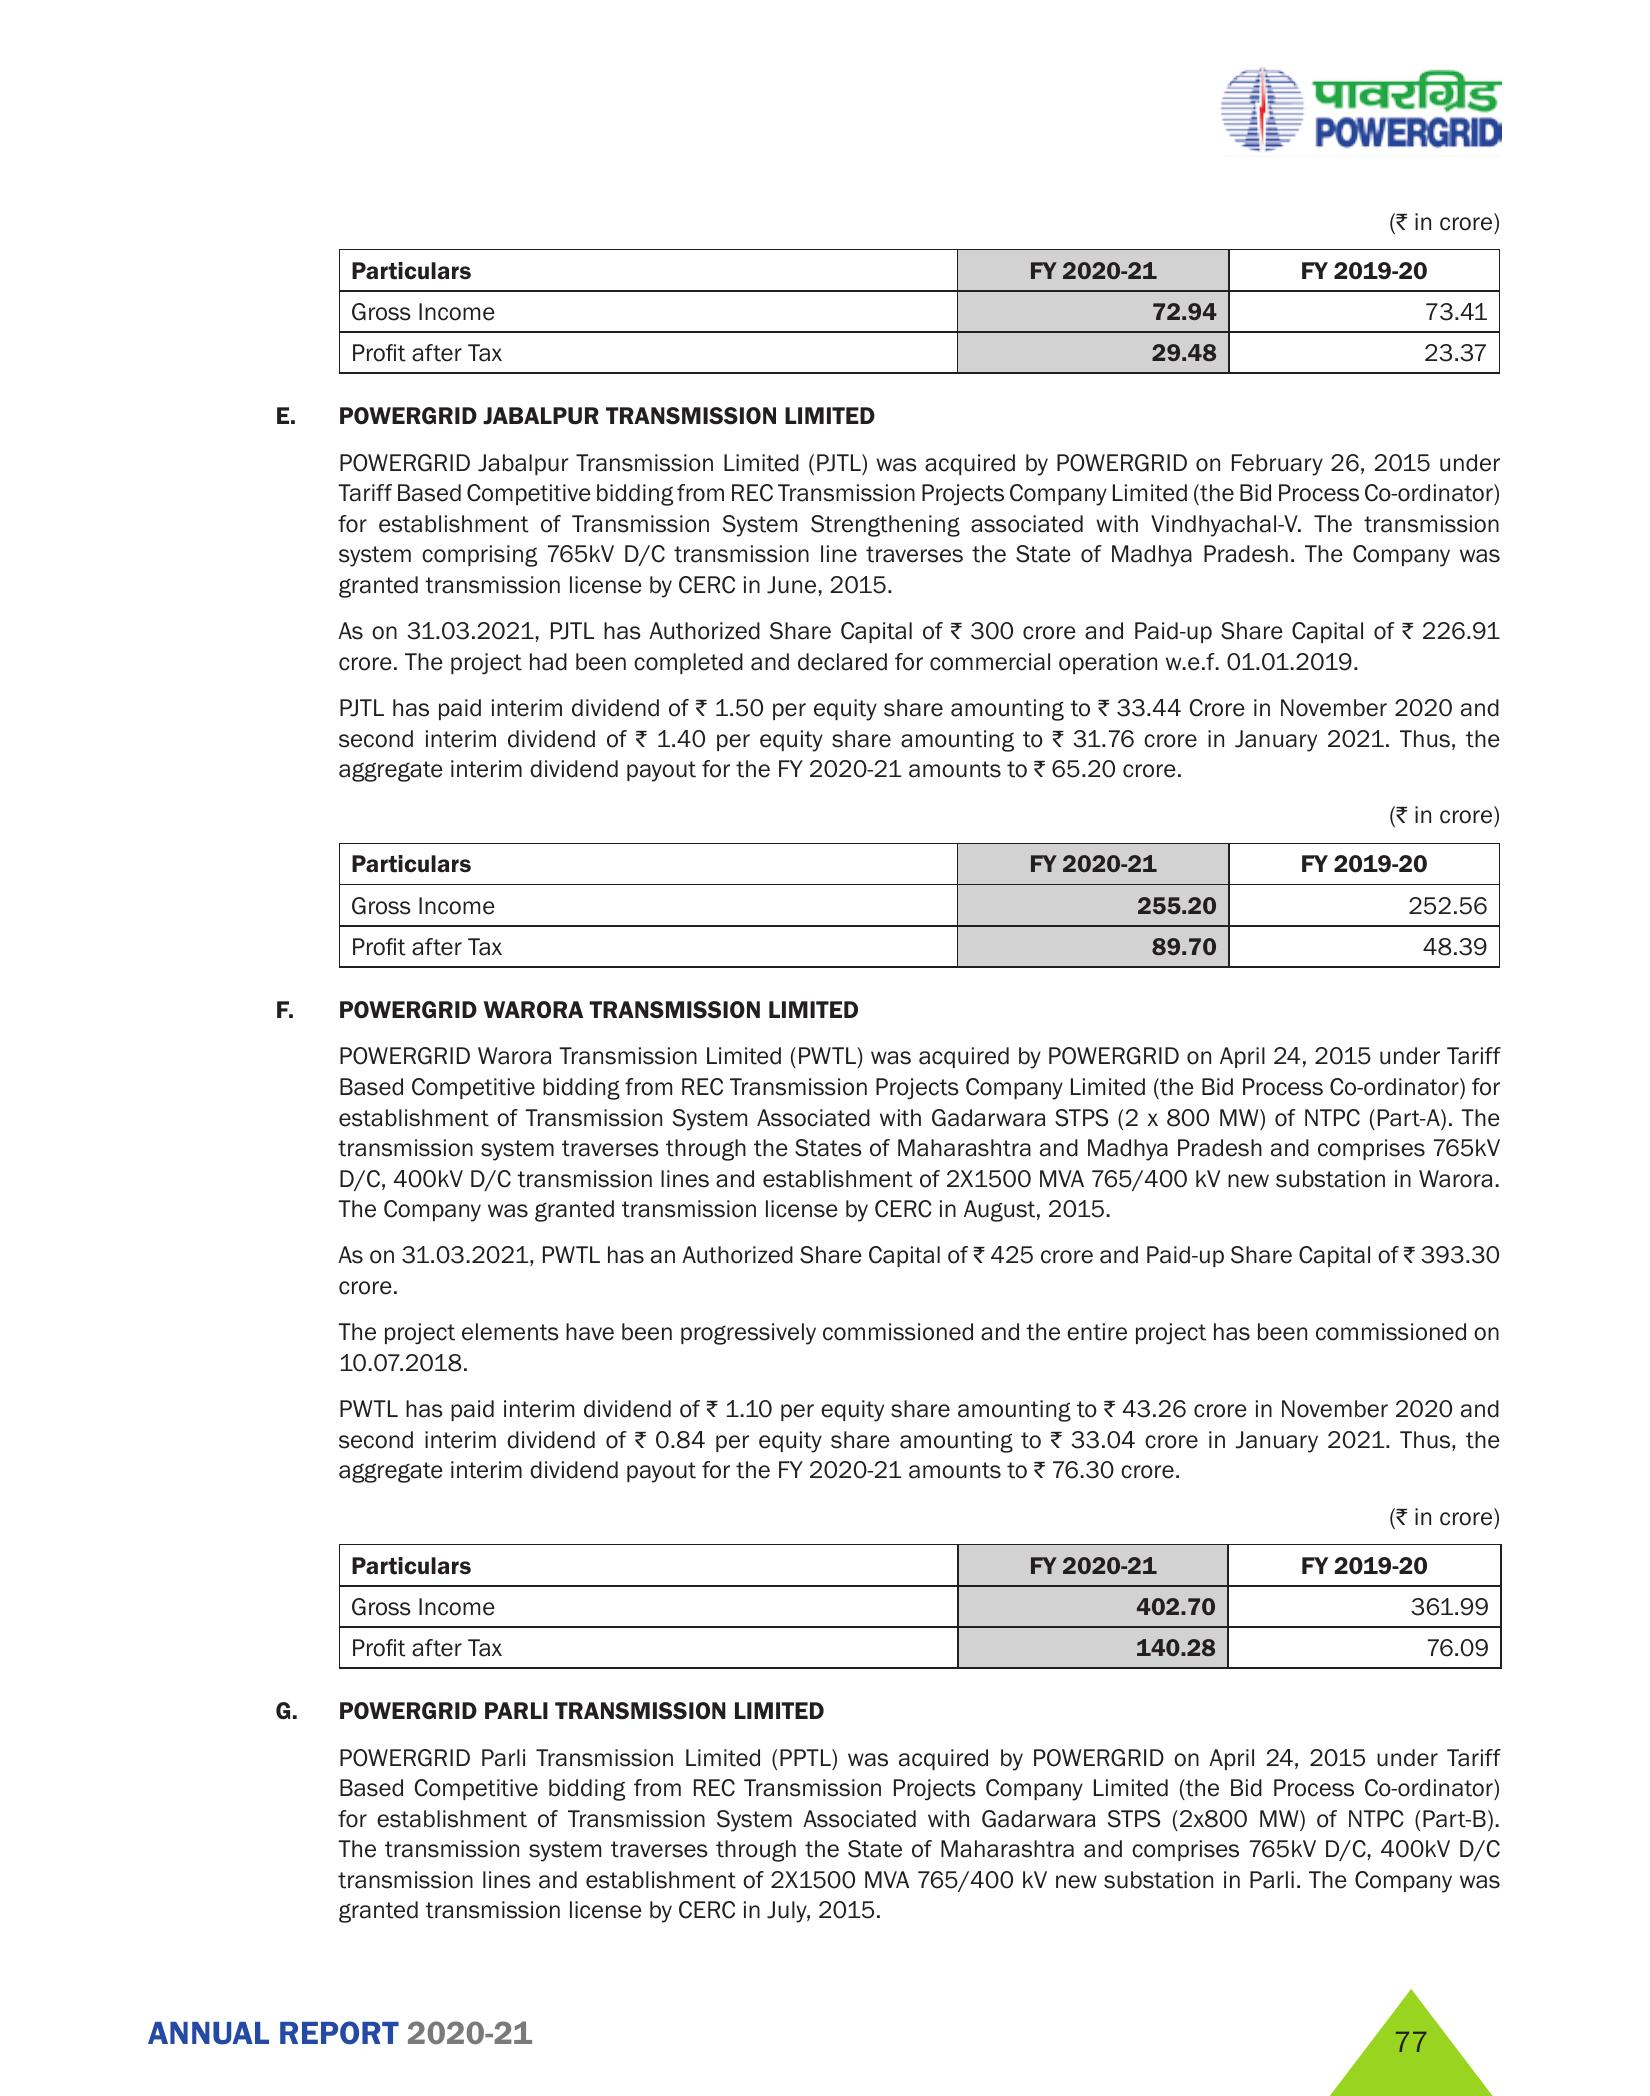Footer: (0, 1945, 1650, 2096)
Header: (0, 0, 1650, 168)
Table: (286, 192, 1565, 384), (269, 789, 1536, 977), (257, 1499, 1536, 1676)
